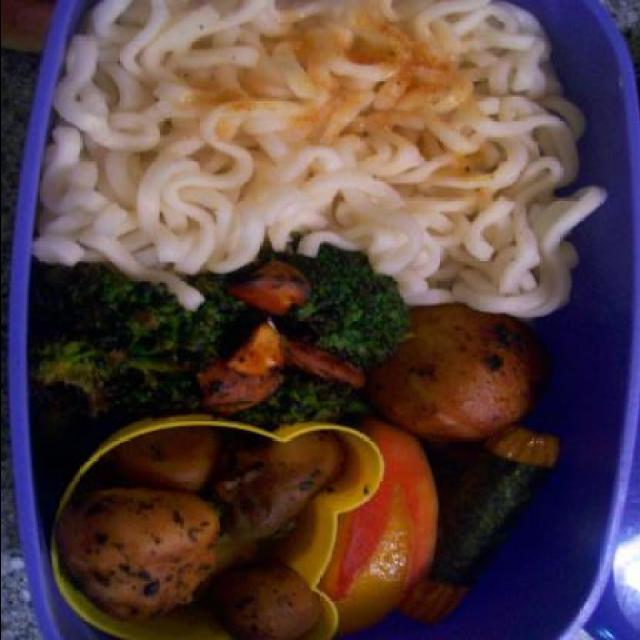Potato: (54, 488, 225, 624), (216, 427, 344, 544), (206, 564, 329, 640), (110, 426, 232, 490)
